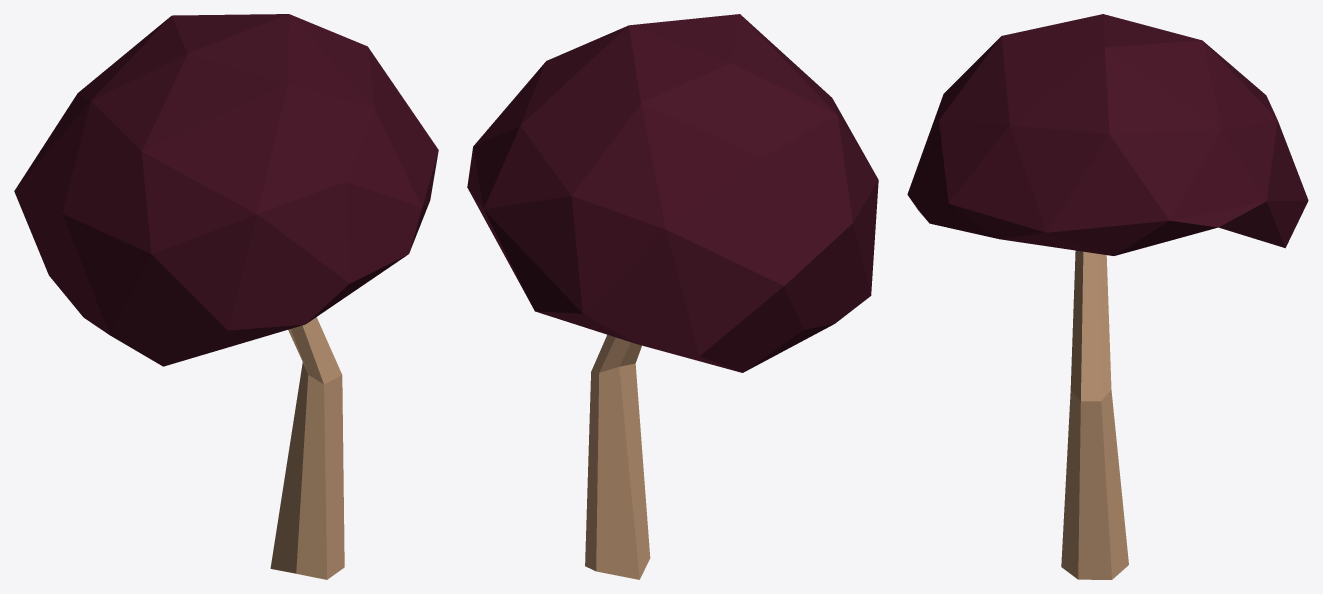
The model's file is enchantedforest_mushroom_3.glb.
3 views of the same model, side by side, from view 1: azimuth 30°, elevation 25°; view 2: azimuth 150°, elevation 25°; view 3: azimuth 270°, elevation 25° (orthographic). The views are drawn at different scales.
Parts seen in each view (by area): view 1: Icosphere.009.1; view 2: Icosphere.009.1; view 3: Icosphere.009.1.
Part boxes in pixels (box(x1,y1,x2,y2)): Icosphere.009.1: box(14, 14, 438, 579); Icosphere.009.1: box(467, 14, 878, 579); Icosphere.009.1: box(907, 14, 1308, 579).
Bounding box in the file's own units: 0.4222 × 0.6404 × 0.4524.
